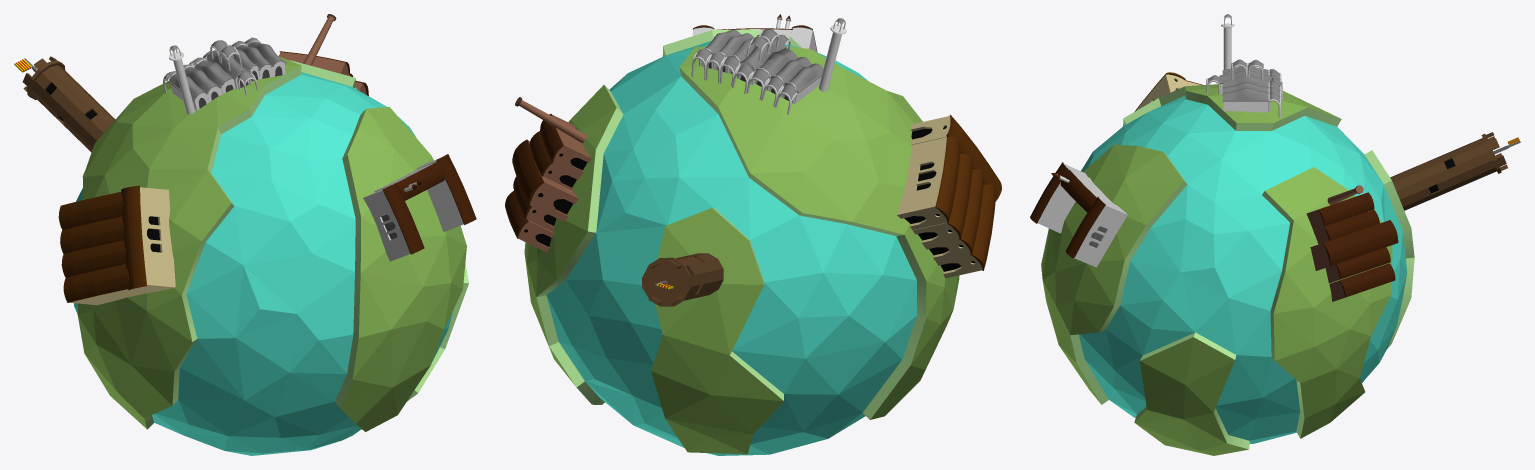
File: world_final.fbx
The picture shows the model from 3 angles, left to right: view 1: azimuth 30°, elevation 25°; view 2: azimuth 150°, elevation 25°; view 3: azimuth 270°, elevation 25°; orthographic projection. The views are drawn at different scales.
Visible parts, largest first — view 1: pPlatonic1, polySurface32, pCylinder49, pCube2, polySurface34, polySurface22, polySurface35, polySurface27; view 2: pPlatonic1, polySurface32, pCylinder49, pCube2, polySurface25, polySurface27, polySurface33, polySurface26, polySurface24, pCylinder12, polySurface34; view 3: pPlatonic1, pCube2, pCylinder49, polySurface22, polySurface25, polySurface34, polySurface27, polySurface33, polySurface24, polySurface26, polySurface35, polySurface32.
Boxes of the visible parts, left/top/right/bottom form: pPlatonic1: left=73, top=56, right=468, bottom=455; polySurface32: left=58, top=185, right=175, bottom=305; pCylinder49: left=163, top=37, right=286, bottom=114; pCube2: left=14, top=56, right=115, bottom=152; polySurface34: left=363, top=183, right=424, bottom=261; polySurface22: left=417, top=154, right=476, bottom=232; polySurface35: left=374, top=162, right=444, bottom=200; polySurface27: left=279, top=51, right=349, bottom=75; pPlatonic1: left=524, top=29, right=959, bottom=455; polySurface32: left=897, top=114, right=1001, bottom=278; pCylinder49: left=691, top=18, right=846, bottom=114; pCube2: left=642, top=253, right=723, bottom=306; polySurface25: left=512, top=139, right=578, bottom=221; polySurface27: left=540, top=114, right=591, bottom=175; polySurface33: left=505, top=191, right=553, bottom=252; polySurface26: left=529, top=131, right=580, bottom=189; polySurface24: left=513, top=176, right=556, bottom=232; pCylinder12: left=515, top=97, right=586, bottom=142; polySurface34: left=791, top=25, right=817, bottom=52; pPlatonic1: left=1041, top=84, right=1414, bottom=455; pCube2: left=1390, top=132, right=1520, bottom=210; pCylinder49: left=1206, top=14, right=1282, bottom=117; polySurface22: left=1065, top=196, right=1127, bottom=267; polySurface25: left=1310, top=220, right=1398, bottom=270; polySurface34: left=1030, top=162, right=1087, bottom=233; polySurface27: left=1306, top=192, right=1374, bottom=230; polySurface33: left=1329, top=263, right=1395, bottom=301; polySurface24: left=1325, top=247, right=1390, bottom=283; polySurface26: left=1313, top=210, right=1379, bottom=244; polySurface35: left=1060, top=169, right=1113, bottom=212; polySurface32: left=1134, top=72, right=1202, bottom=111.
Size of the model in its own units: 444 by 451 by 535.
